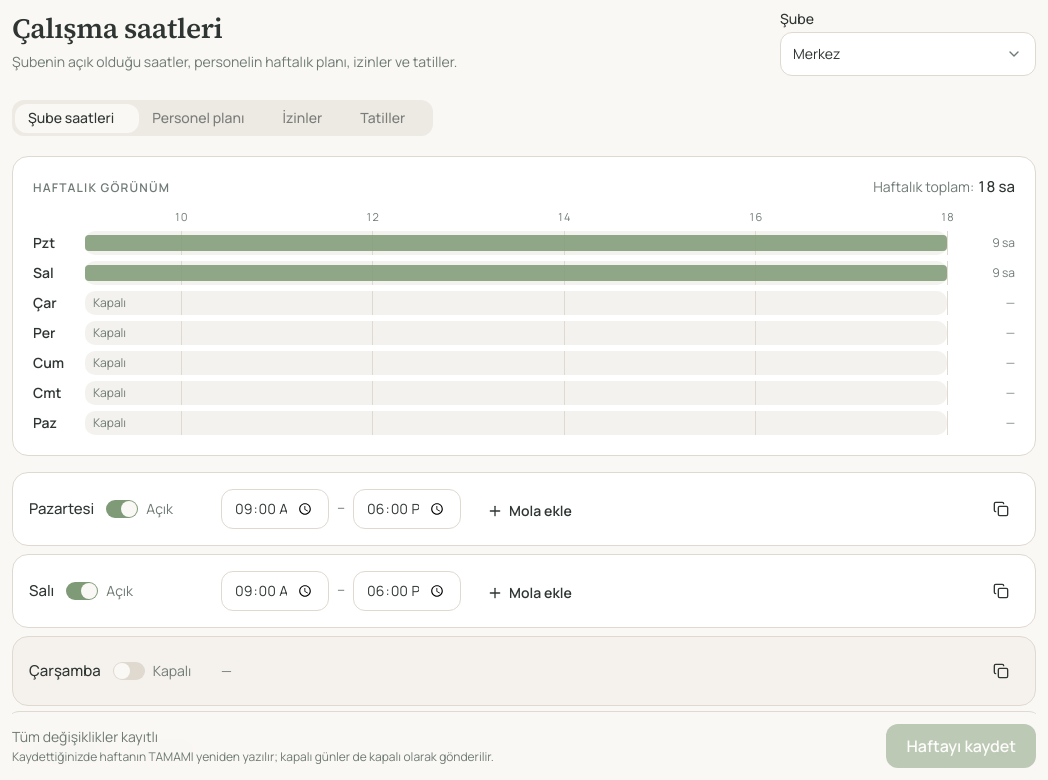
Test: çalışma saatleri — şube › geri al taslağı kayıtlı hâle döndürüyor
The width and height of the screenshot is (1048, 780).
Replace the text in the 3rd time field named "Açılış" with "10:00" at coordinates (275, 591), box x1=221 y1=571 x2=329 y2=611
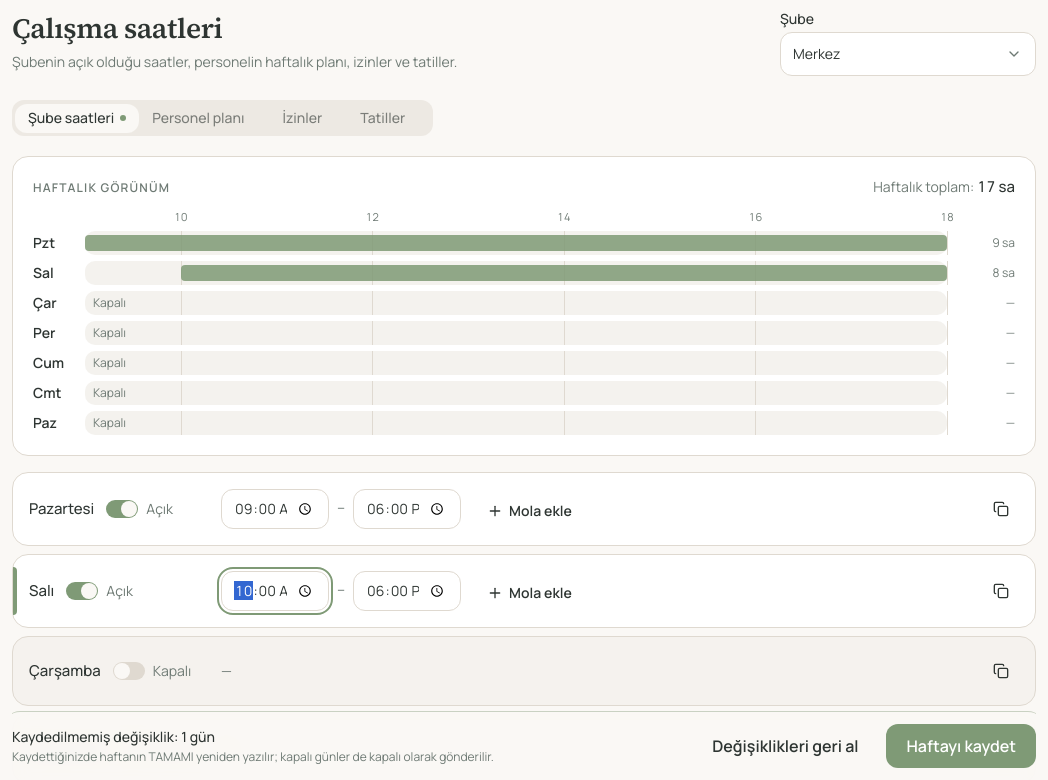
Click the button "Değişiklikleri geri al" at coordinates (785, 746), box x1=692 y1=724 x2=878 y2=768
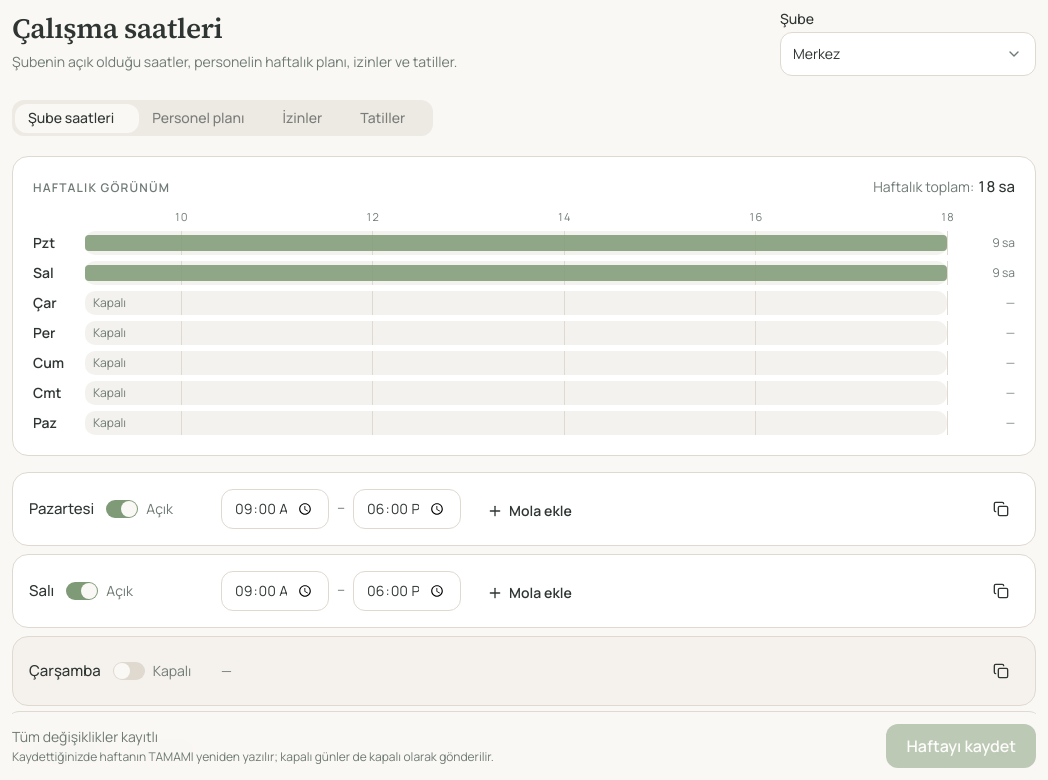
expect the text "Tüm değişiklikler kayıtlı" is shown: met, box x1=12 y1=727 x2=158 y2=746
expect the 3rd time field named "Açılış" holds "09:00": met, box x1=221 y1=571 x2=329 y2=611
